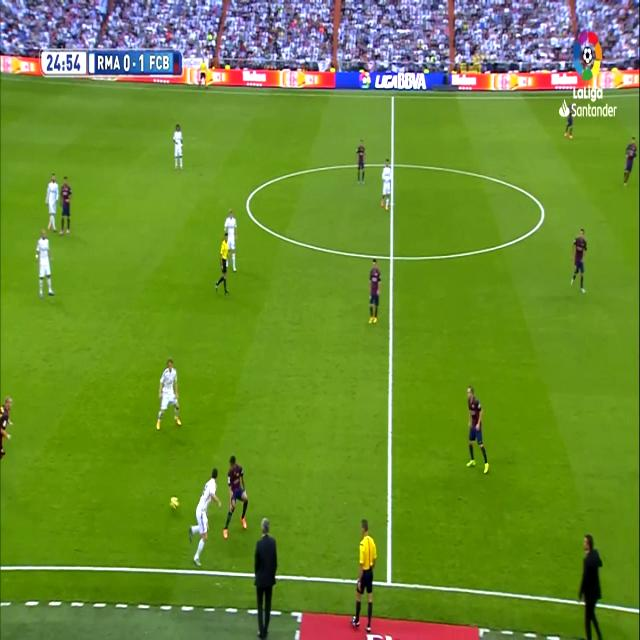halfcircle_bottom: (386, 241, 398, 270)
halfcircle_top: (388, 151, 398, 174)
midline_bottom_intersection: (379, 563, 397, 593)
midline_top_intersection: (388, 90, 398, 104)
